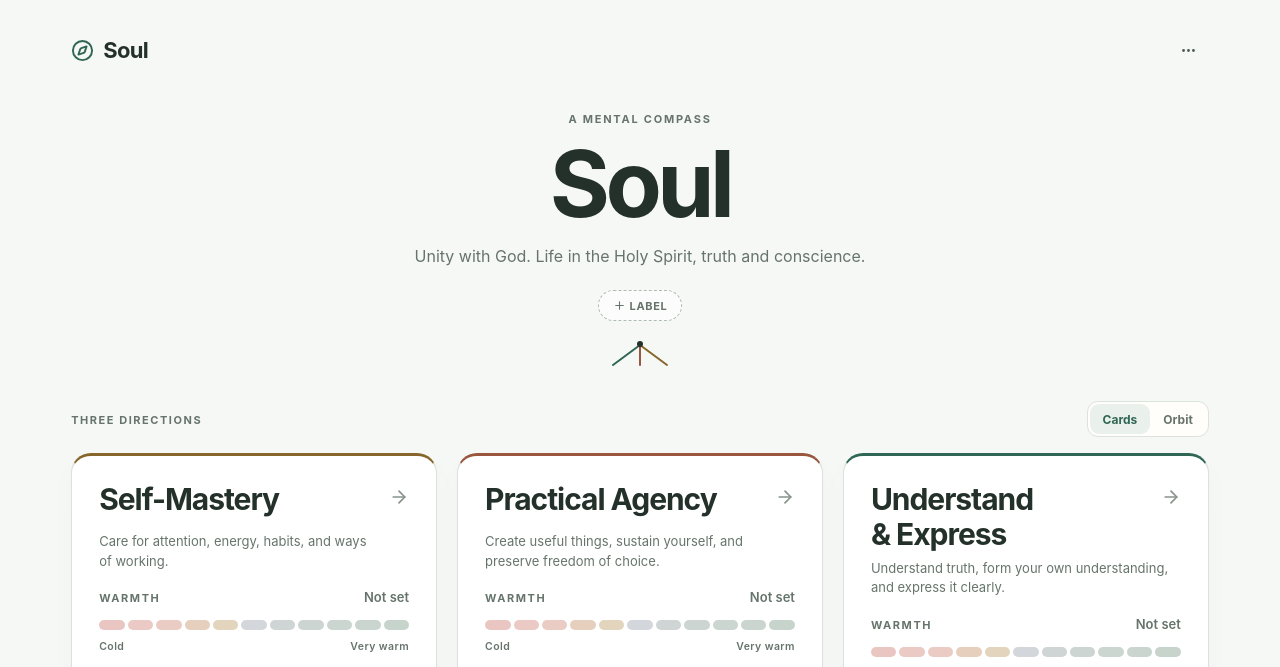
Test: Soul compass › adds a goal to a page with one line and clears the field
Click the button "Practical Agency" at (640, 504), box [485,482,795,526]
(page scrolled)
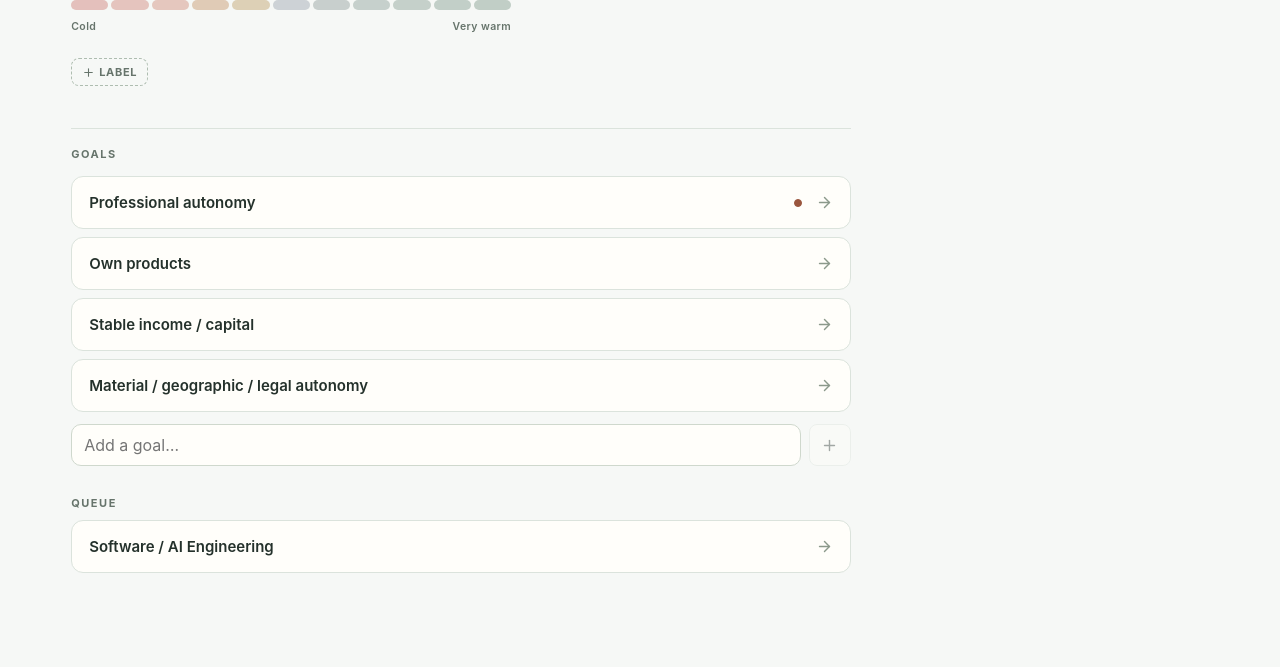
Type "Learn to sell" into the field named "New goal" at (436, 445), box [71,424,801,466]
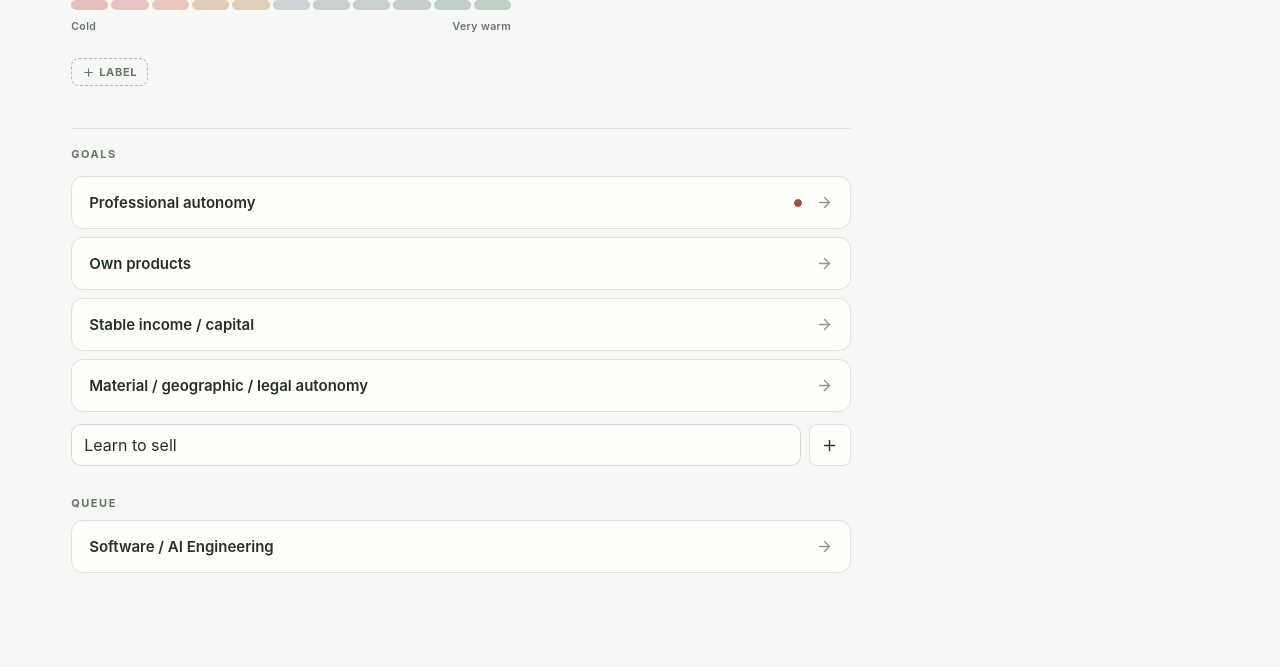
Press Enter in the field named "New goal", box [71,424,801,466]
Submit the form named "New goal", box [71,424,851,466]
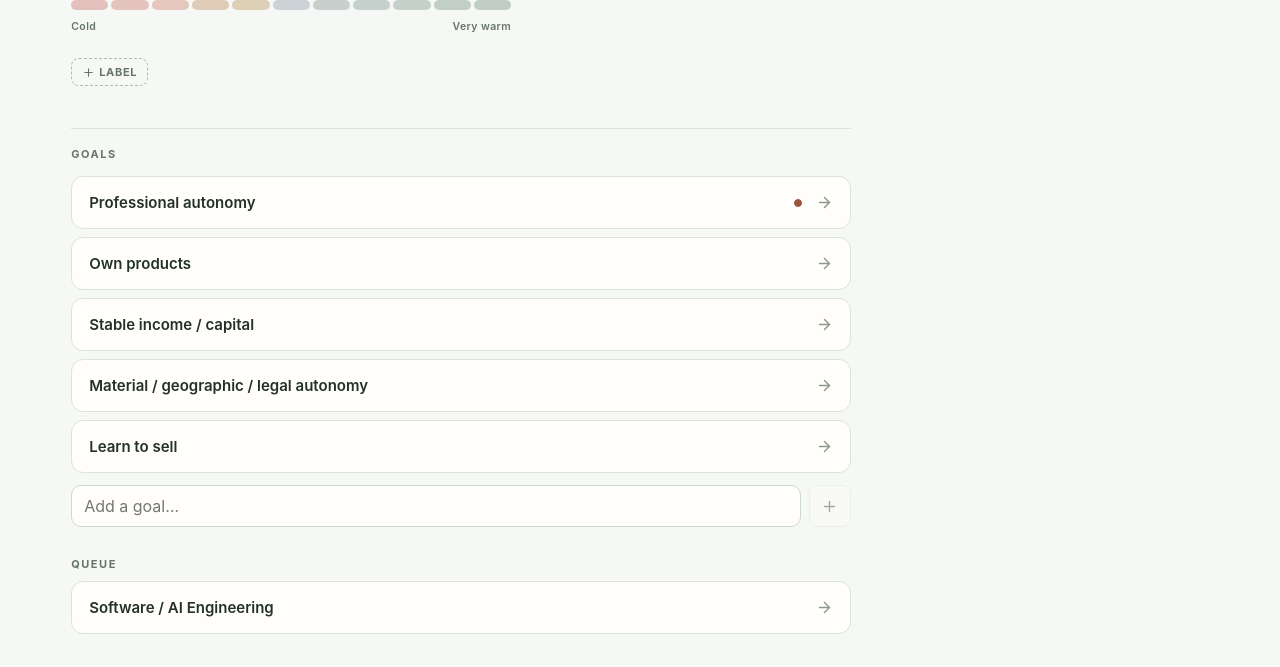
Expected: the field named "New goal" is empty, [71,485,801,527]
Expected: the text "Learn to sell" is shown, [89,437,177,456]
